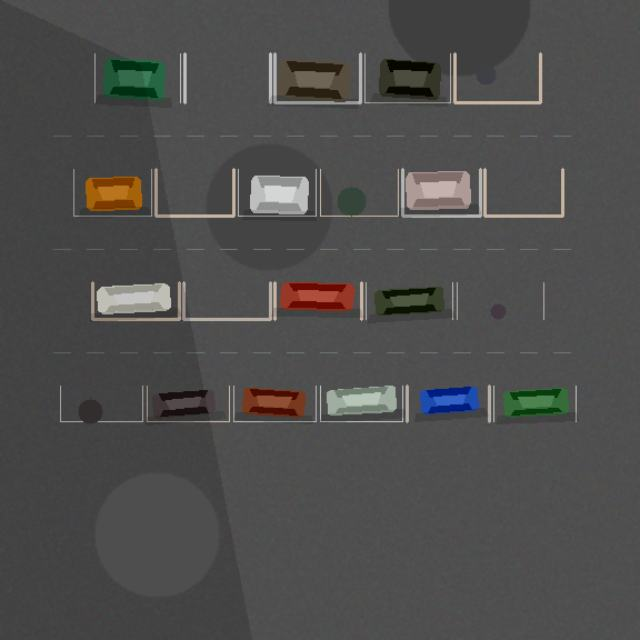space-empty: (184, 53, 270, 102), (454, 53, 540, 102), (320, 169, 398, 216), (484, 169, 562, 216), (156, 169, 233, 216), (183, 282, 270, 319), (457, 282, 543, 319), (60, 386, 142, 421)
space-occupied: (94, 53, 180, 102), (274, 53, 360, 102), (364, 53, 450, 102), (73, 169, 151, 216), (238, 169, 316, 216), (402, 169, 480, 216), (92, 282, 179, 319), (274, 282, 361, 319), (366, 282, 452, 319), (233, 386, 316, 421), (493, 386, 576, 421), (147, 386, 229, 421), (320, 386, 402, 421), (407, 386, 489, 421)
